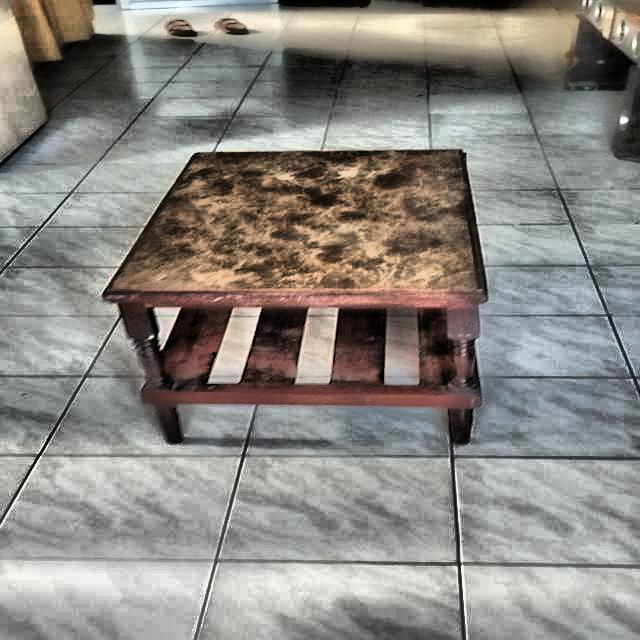mesa: (101, 146, 493, 444)
